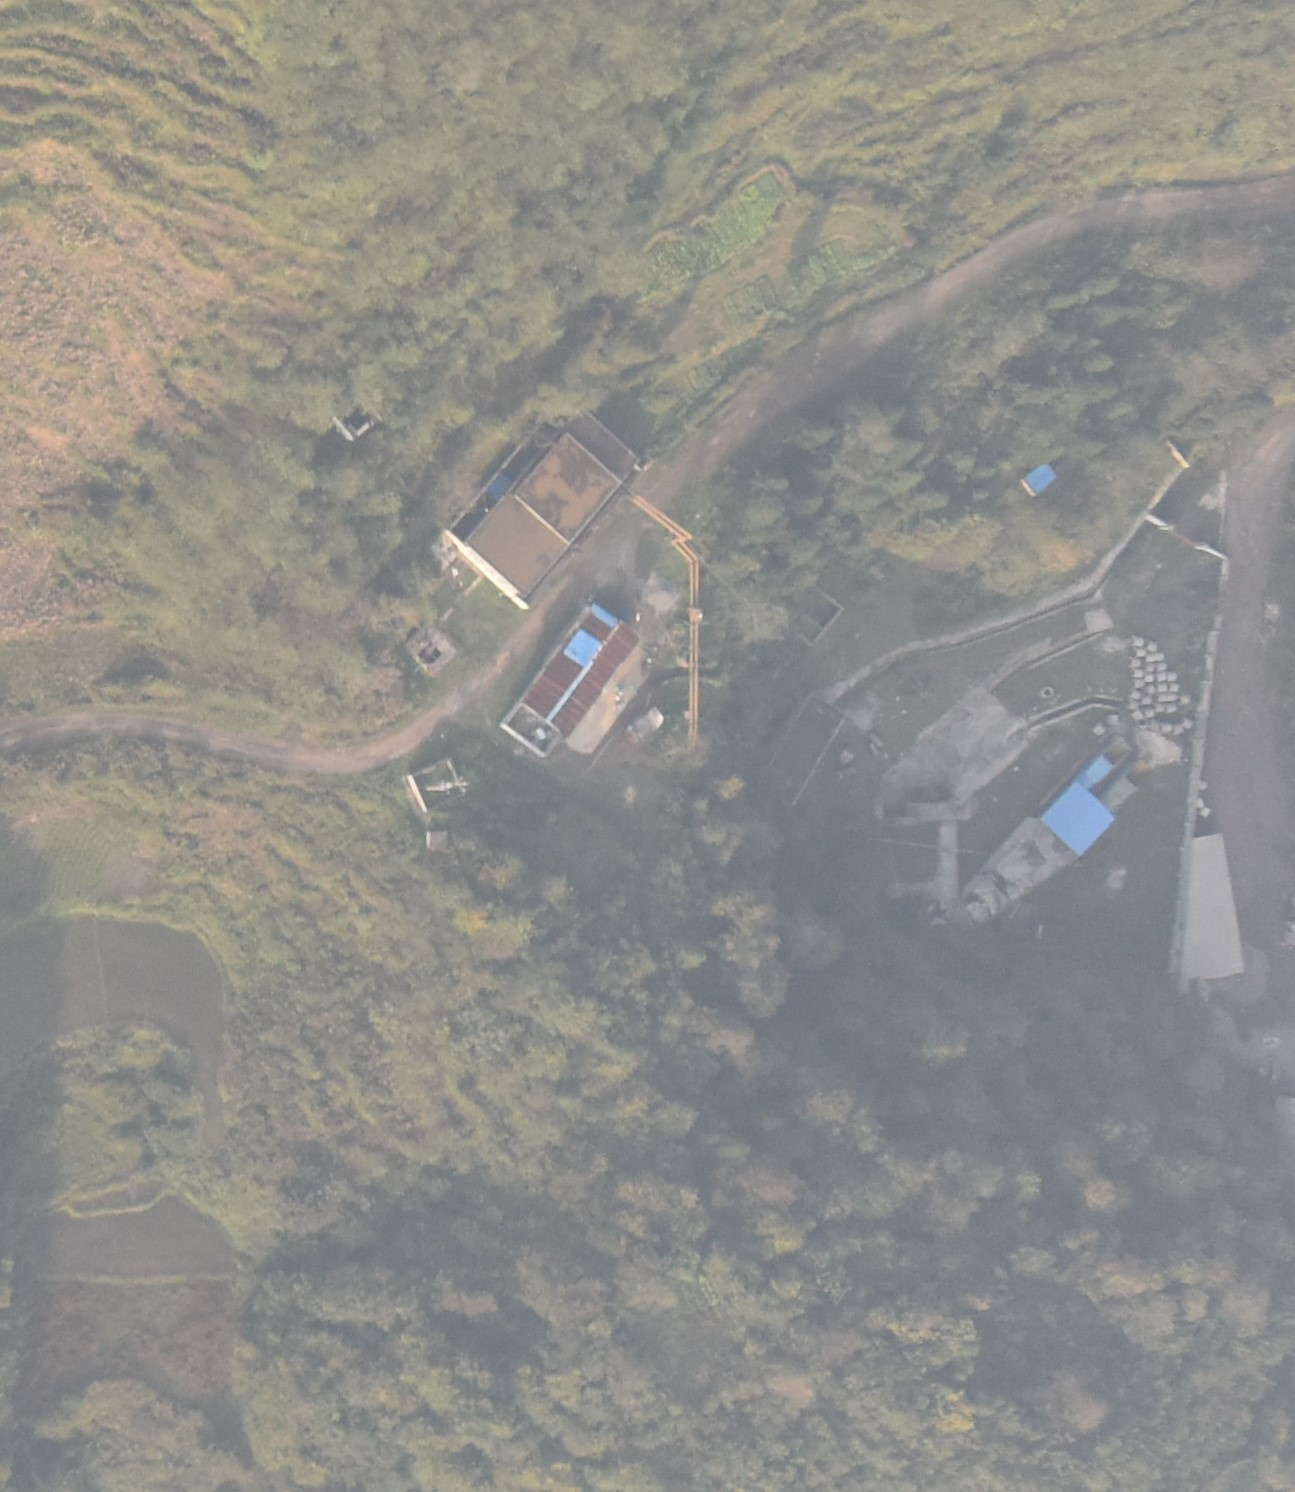building: (438, 400, 654, 613), (502, 594, 644, 760), (400, 754, 471, 820)
prefabricated-house: (1038, 775, 1117, 859), (559, 624, 605, 677), (1017, 458, 1063, 499), (1077, 755, 1119, 790)
